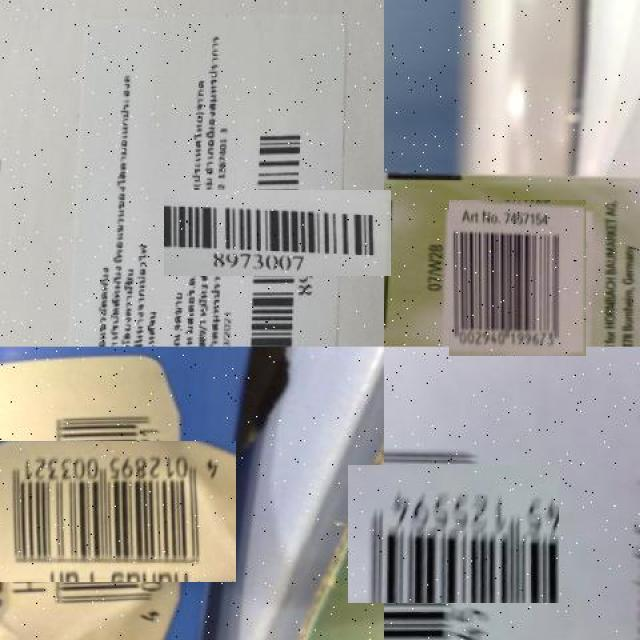Barcode: (9, 412, 207, 612), (366, 447, 541, 622), (199, 154, 357, 311), (444, 205, 592, 351)
